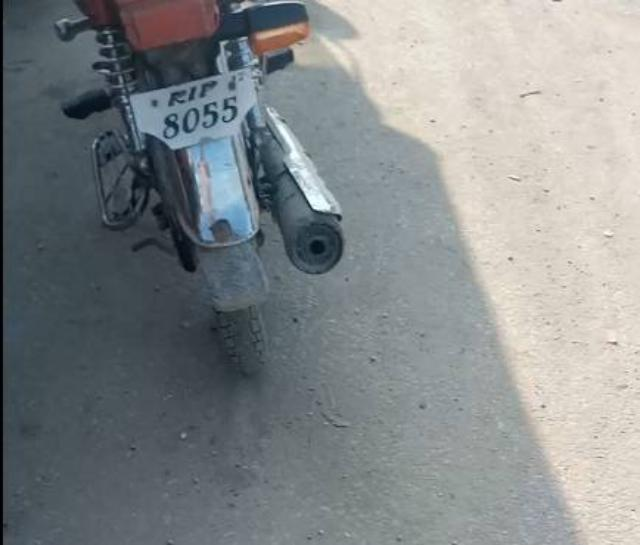plate: (126, 67, 262, 141)
